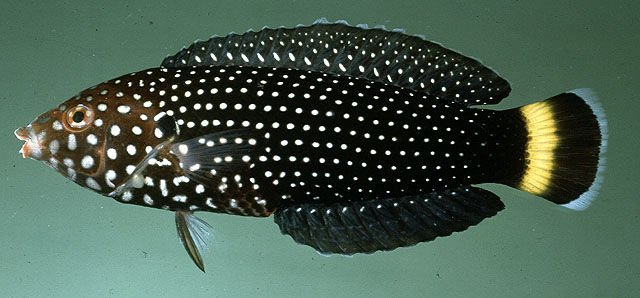fish: (15, 19, 607, 274)
